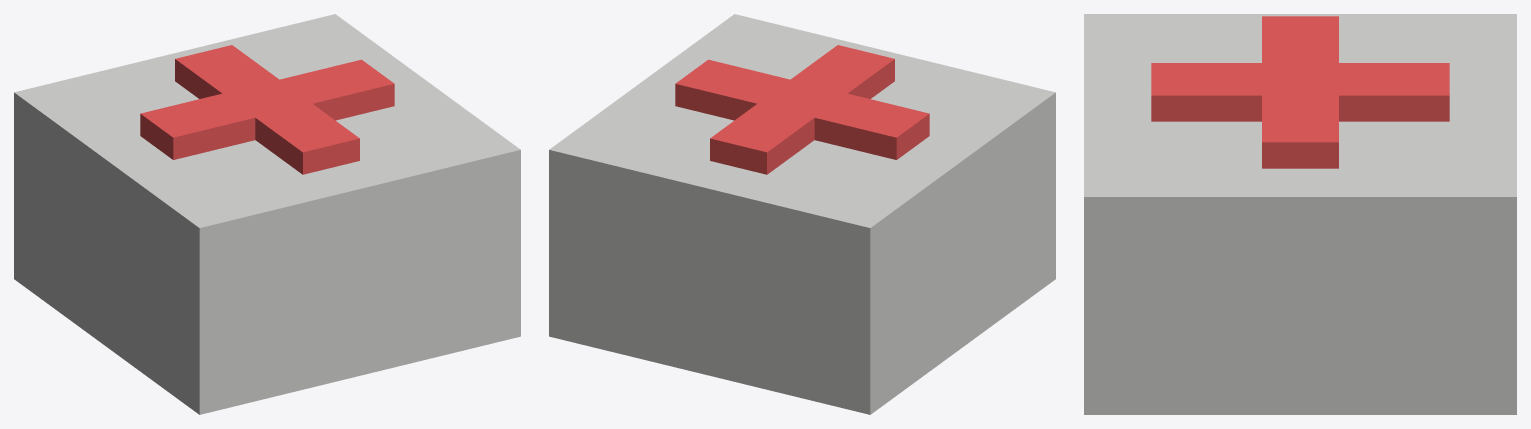
Rendered from wasteland_pickup_repair.glb.
3 renders of one model, left to right at view 1: azimuth 30°, elevation 25°; view 2: azimuth 150°, elevation 25°; view 3: azimuth 270°, elevation 25°, orthographic. The views are drawn at different scales.
Visible parts, largest first — view 1: Pickup_Repair; view 2: Pickup_Repair; view 3: Pickup_Repair.
Boxes of the visible parts, box(x1,y1,x2,y2) form: Pickup_Repair: box(14, 14, 520, 414); Pickup_Repair: box(549, 14, 1055, 414); Pickup_Repair: box(1084, 14, 1516, 414).
Size of the model in its own units: 0.9 by 0.56 by 0.9.
